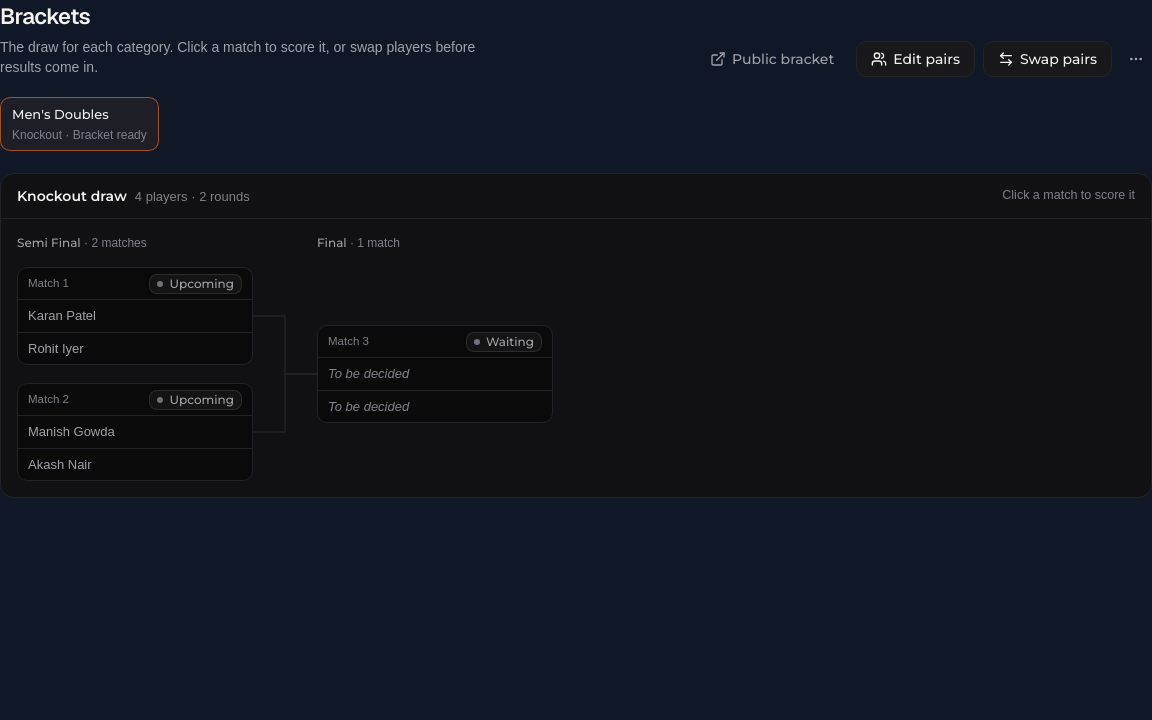
Test: BracketManagementSection, doubles after the draw › Edit pairs opens the pairing panel above the draw
Click the button "Edit pairs" at (916, 59), box [856,41,975,77]
(page scrolled)
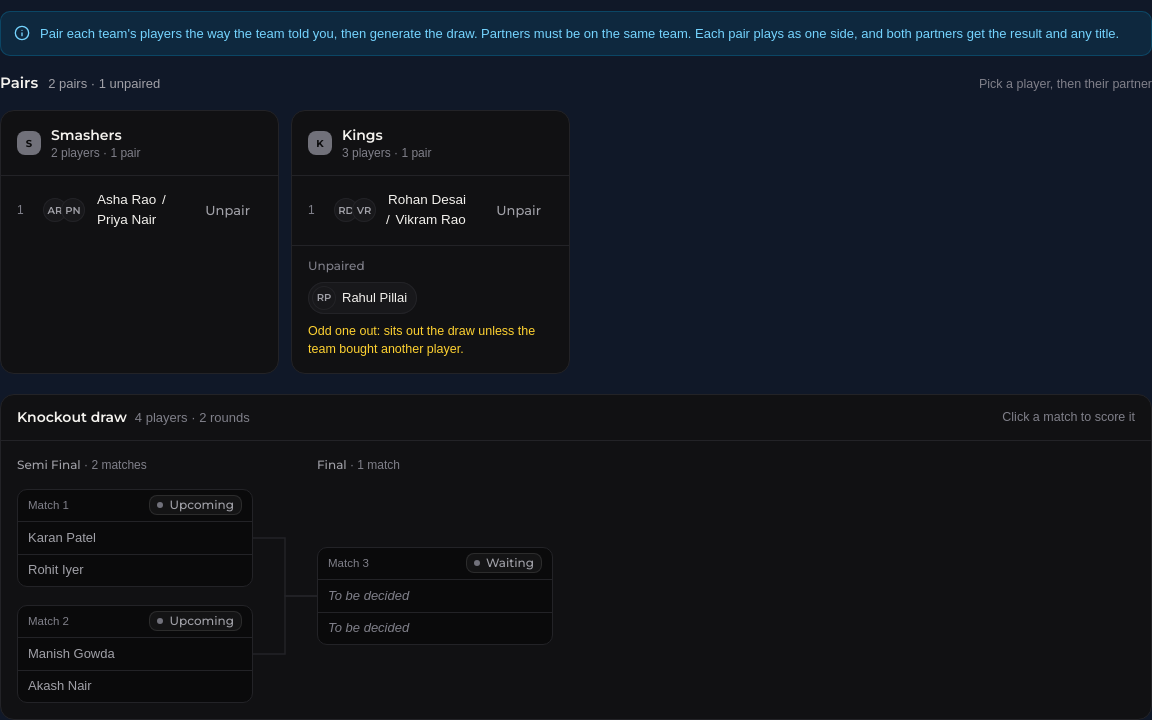
Expected: the element "Knockout draw" is shown, [0,394,1151,719]
Now the element "Smashers" is shown, box [0,110,279,374]
